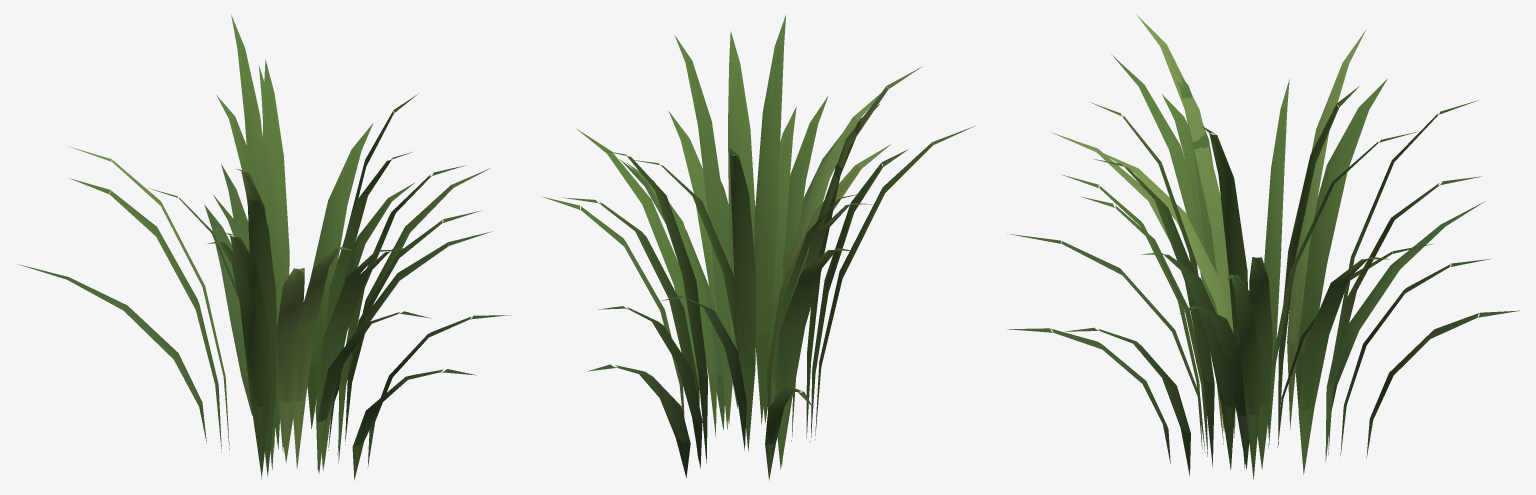
Rendered from grass-tuft.glb.
The picture shows the model from 3 angles, left to right: view 1: azimuth 30°, elevation 25°; view 2: azimuth 150°, elevation 25°; view 3: azimuth 270°, elevation 25°; orthographic projection. The views are drawn at different scales.
Visible parts, largest first — view 1: grass-blades, base-blades, young-blades; view 2: grass-blades, base-blades, young-blades; view 3: grass-blades, base-blades, young-blades.
Boxes of the visible parts, x1=… form: grass-blades: x1=69, y1=15, x2=490, y2=479; base-blades: x1=17, y1=164, x2=510, y2=480; young-blades: x1=69, y1=146, x2=352, y2=469; grass-blades: x1=542, y1=15, x2=974, y2=469; base-blades: x1=588, y1=133, x2=842, y2=480; young-blades: x1=767, y1=66, x2=922, y2=464; grass-blades: x1=1063, y1=54, x2=1482, y2=479; base-blades: x1=1007, y1=201, x2=1519, y2=476; young-blades: x1=1051, y1=14, x2=1366, y2=444.
Bounding box in the file's own units: 0.4688 × 0.445 × 0.545.
